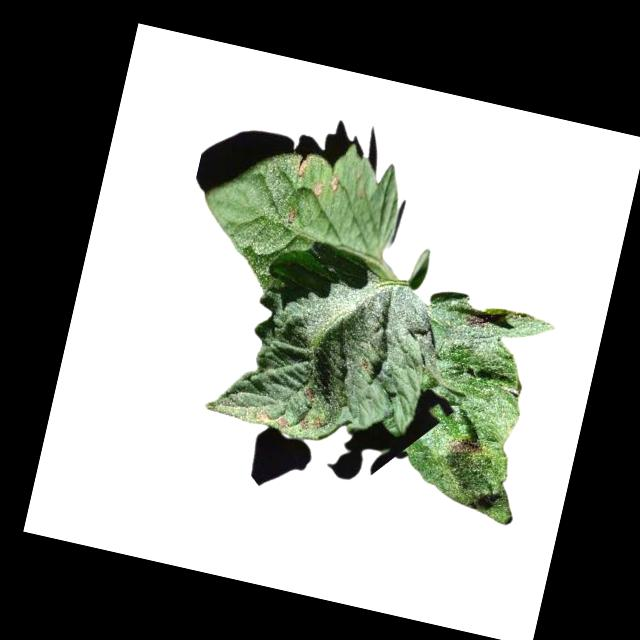Early_blight: (446, 436, 487, 462), (458, 310, 487, 333), (293, 151, 312, 179), (283, 204, 298, 225), (301, 385, 317, 402), (327, 175, 343, 192), (312, 179, 326, 198), (309, 416, 324, 433), (276, 415, 289, 430), (298, 416, 310, 432)
